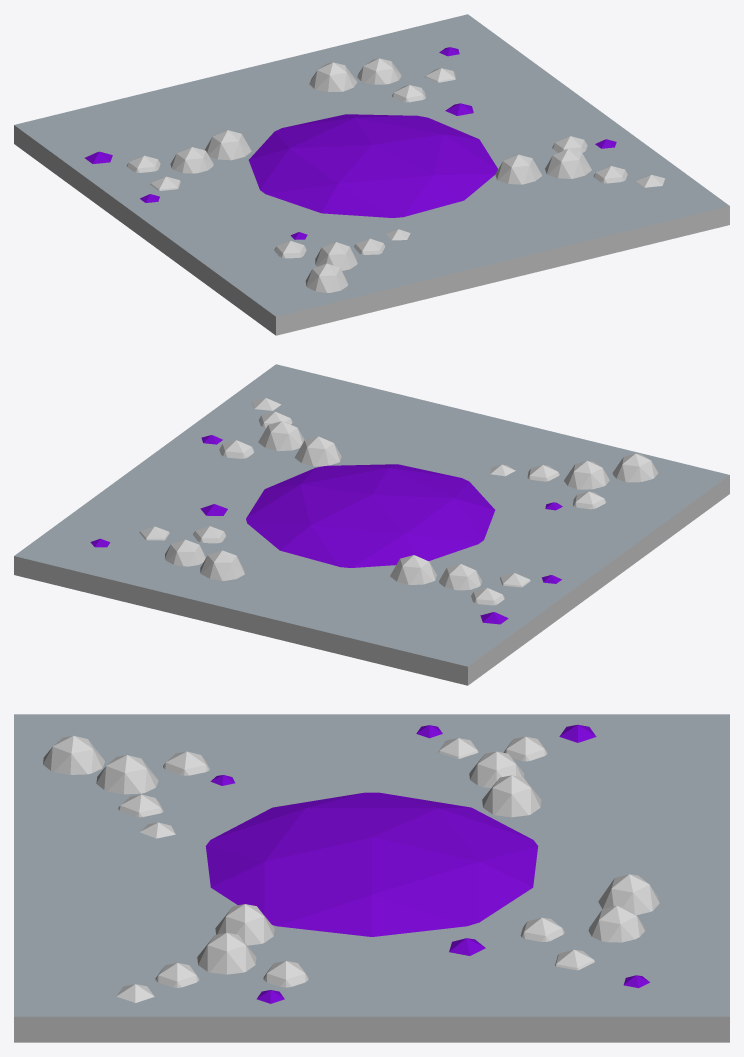
Rendered from Capture.fbx.
The picture shows the model from 3 angles, top to bottom: view 1: azimuth 30°, elevation 25°; view 2: azimuth 150°, elevation 25°; view 3: azimuth 270°, elevation 25°; orthographic projection. The views are drawn at different scales.
Parts seen in each view (by area): view 1: Icosphere.024; view 2: Icosphere.024; view 3: Icosphere.024.
Part boxes in pixels (bbox=[...]): Icosphere.024: bbox=[14, 14, 729, 335]; Icosphere.024: bbox=[14, 364, 729, 685]; Icosphere.024: bbox=[14, 714, 729, 1042].
Bounding box in the file's own units: 100 × 8.91 × 100.
